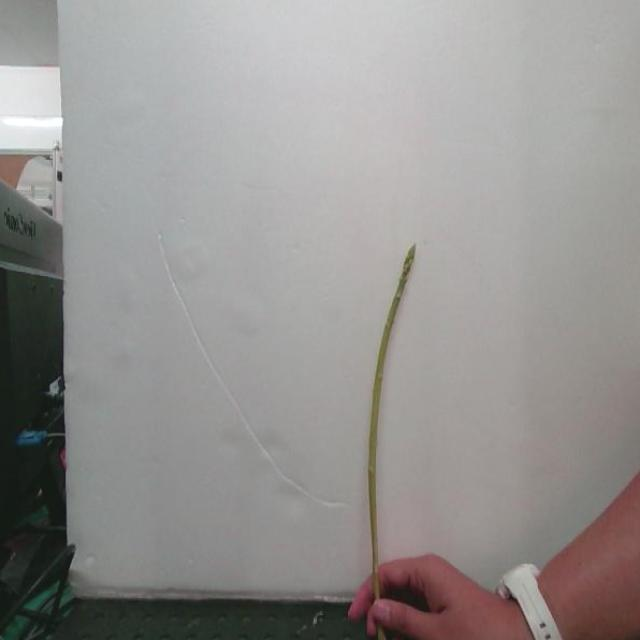aspargus: (367, 247, 417, 597)
